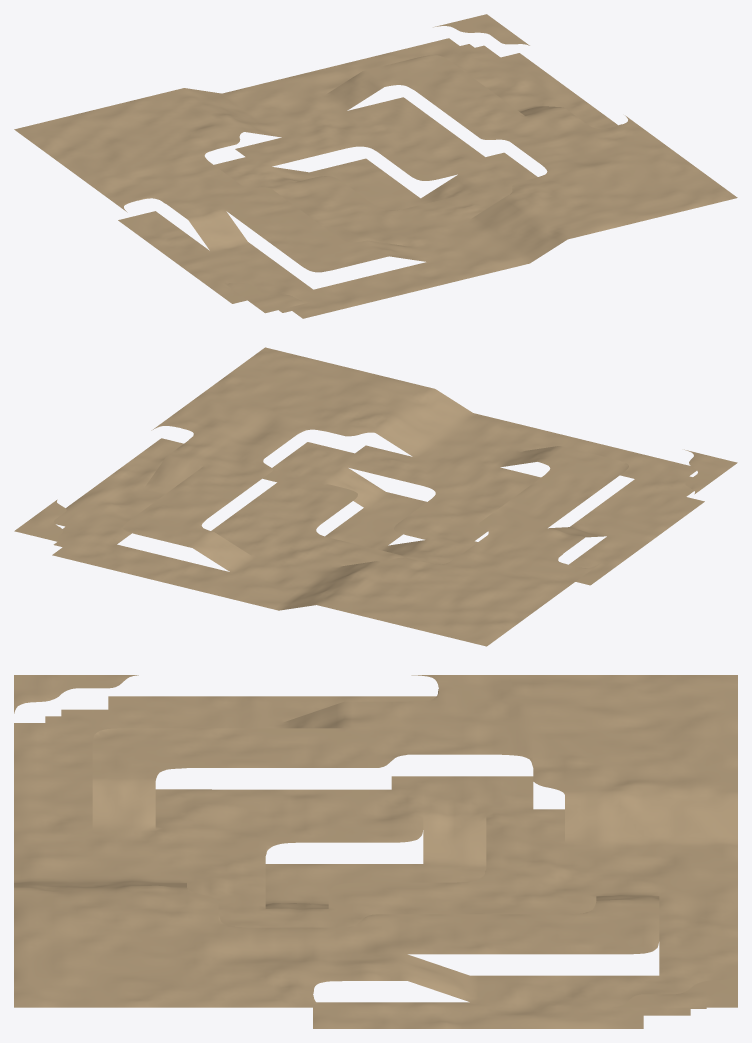
Rendered from Map_Sculpted.fbx.
The picture shows the model from 3 angles, top to bottom: view 1: azimuth 30°, elevation 25°; view 2: azimuth 150°, elevation 25°; view 3: azimuth 270°, elevation 25°; orthographic projection. The views are drawn at different scales.
Parts seen in each view (by area): view 1: MapLayout; view 2: MapLayout; view 3: MapLayout.
Boxes of the visible parts, x1,y1,x2,y2 form: MapLayout: (14, 14, 737, 318); MapLayout: (14, 347, 737, 646); MapLayout: (14, 675, 737, 1028).
Bounding box in the file's own units: 5000 × 329 × 4600.
